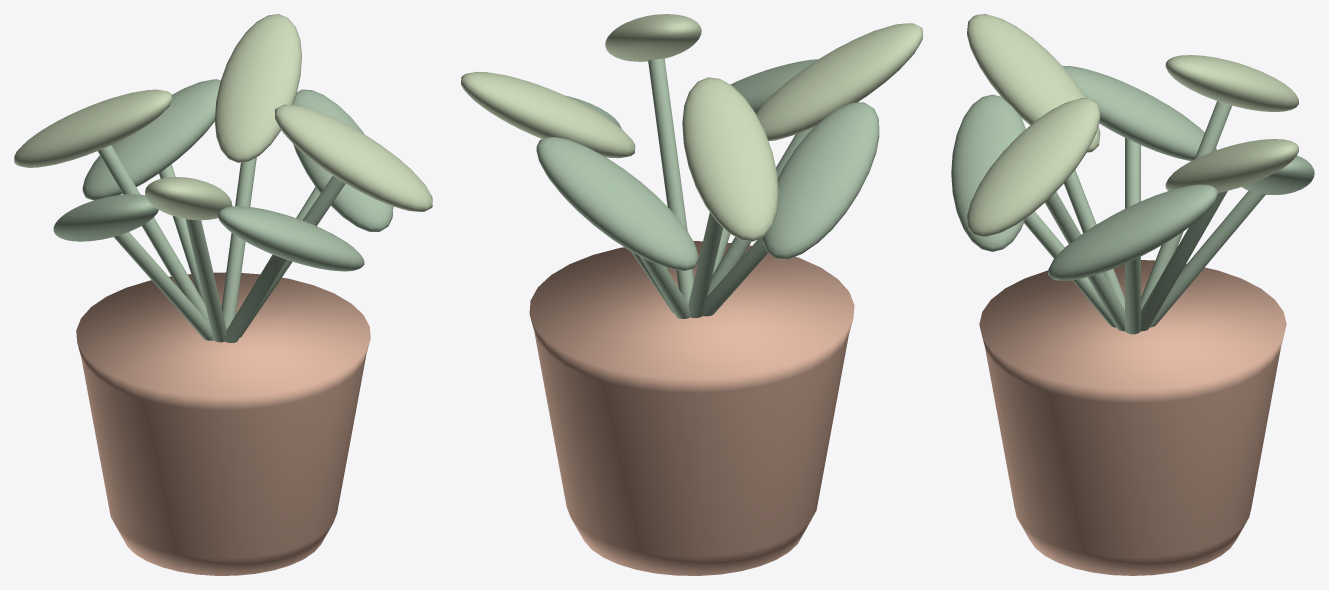
The model's file is Plant.fbx.
3 views of the same model, side by side, from view 1: azimuth 30°, elevation 25°; view 2: azimuth 150°, elevation 25°; view 3: azimuth 270°, elevation 25° (orthographic). The views are drawn at different scales.
Parts seen in each view (by area): view 1: Pot, Leaf.001, Leaf.007, Leaf.002, Leaf.003, Leaf.006, Leaf, Leaf.004, Leaf.005, Stem.003, Stem.004, Stem.001 (+4 smaller); view 2: Pot, Leaf.003, Leaf.004, Leaf.002, Leaf.005, Leaf.001, Leaf.007, Stem.007, Stem.003, Leaf.006, Stem.004, Stem.005 (+1 smaller); view 3: Pot, Leaf.007, Leaf, Leaf.005, Leaf.004, Leaf.006, Leaf.003, Leaf.001, Stem.002, Stem.001, Stem.003, Stem.007 (+5 smaller).
Part boxes in pixels (x1,y1,x2,y2): Pot: [76, 272, 370, 575]; Leaf.001: [214, 14, 301, 162]; Leaf.007: [275, 104, 432, 211]; Leaf.002: [82, 79, 220, 200]; Leaf.003: [14, 89, 171, 167]; Leaf.006: [217, 206, 364, 271]; Leaf: [293, 89, 393, 231]; Leaf.004: [53, 194, 158, 241]; Leaf.005: [145, 177, 232, 220]; Stem.003: [97, 145, 209, 321]; Stem.004: [114, 232, 213, 340]; Stem.001: [221, 157, 256, 329]; Pot: [529, 241, 854, 575]; Leaf.003: [682, 77, 778, 241]; Leaf.004: [763, 102, 879, 259]; Leaf.002: [536, 137, 698, 270]; Leaf.005: [756, 23, 922, 140]; Leaf.001: [461, 71, 635, 158]; Leaf.007: [605, 14, 701, 61]; Stem.007: [648, 58, 693, 304]; Stem.003: [688, 212, 723, 317]; Leaf.006: [730, 59, 817, 113]; Stem.004: [702, 238, 767, 316]; Stem.005: [707, 126, 815, 295]; Pot: [979, 260, 1286, 575]; Leaf.007: [967, 98, 1100, 236]; Leaf: [1048, 184, 1217, 280]; Leaf.005: [967, 14, 1100, 152]; Leaf.004: [1063, 66, 1216, 160]; Leaf.006: [951, 94, 1025, 251]; Leaf.003: [1165, 55, 1298, 111]; Leaf.001: [1165, 139, 1298, 192]; Stem.002: [1149, 190, 1265, 327]; Stem.001: [1140, 191, 1227, 331]; Stem.003: [1141, 101, 1231, 310]; Stem.007: [1045, 191, 1125, 331].
Size of the model in its own units: 41.4 by 56.68 by 41.4.
